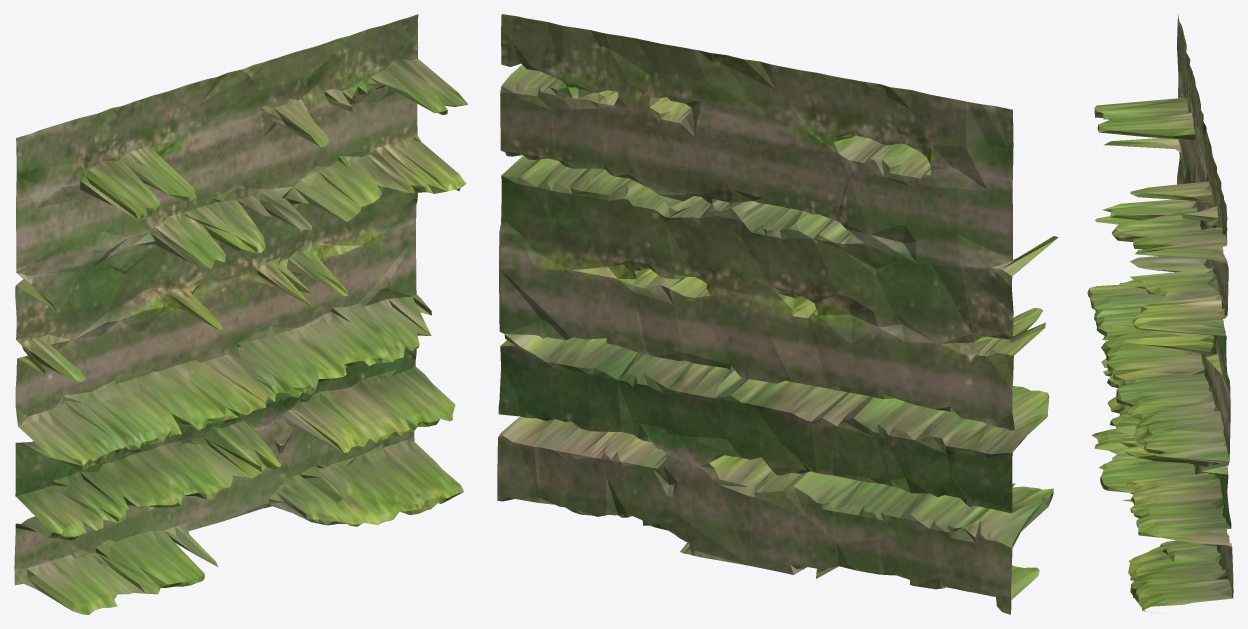
File: map_100_40.obj
The picture shows the model from 3 angles, left to right: view 1: azimuth 30°, elevation 25°; view 2: azimuth 150°, elevation 25°; view 3: azimuth 270°, elevation 25°; orthographic projection. The views are drawn at different scales.
Visible parts, largest first — view 1: grp1; view 2: grp1; view 3: grp1.
Part boxes in pixels (x1,y1,x2,y2): grp1: (14,14,468,614); grp1: (497,14,1058,614); grp1: (1087,15,1233,613).
Bounding box in the file's own units: 10 × 10 × 3.23.
1 material, 1 textured.
